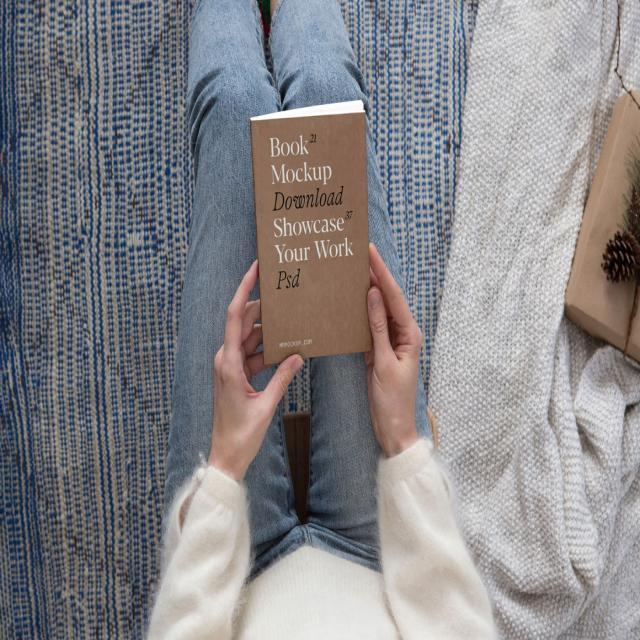book: (253, 97, 384, 369)
